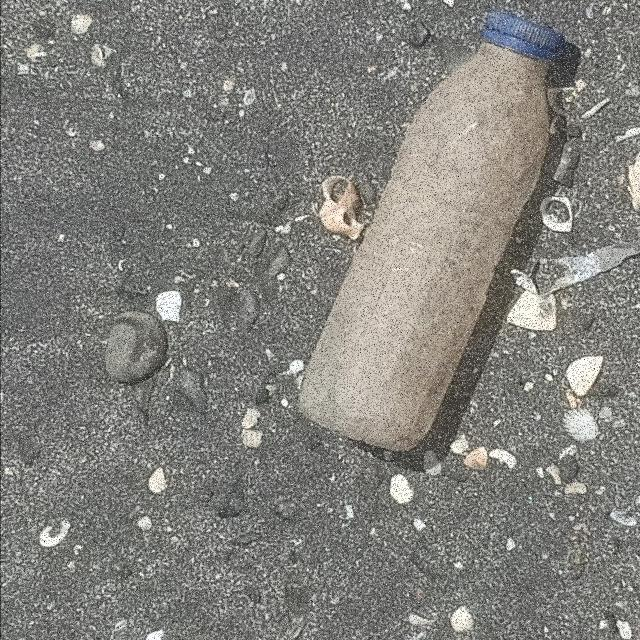plastic_waste: (300, 7, 566, 456)
